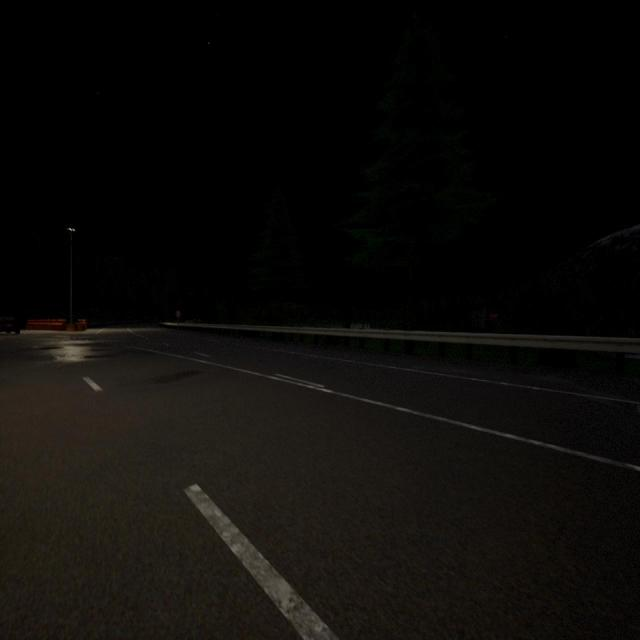Traffic_Signs: (176, 311, 180, 316)
Vehicle: (0, 318, 20, 336)
